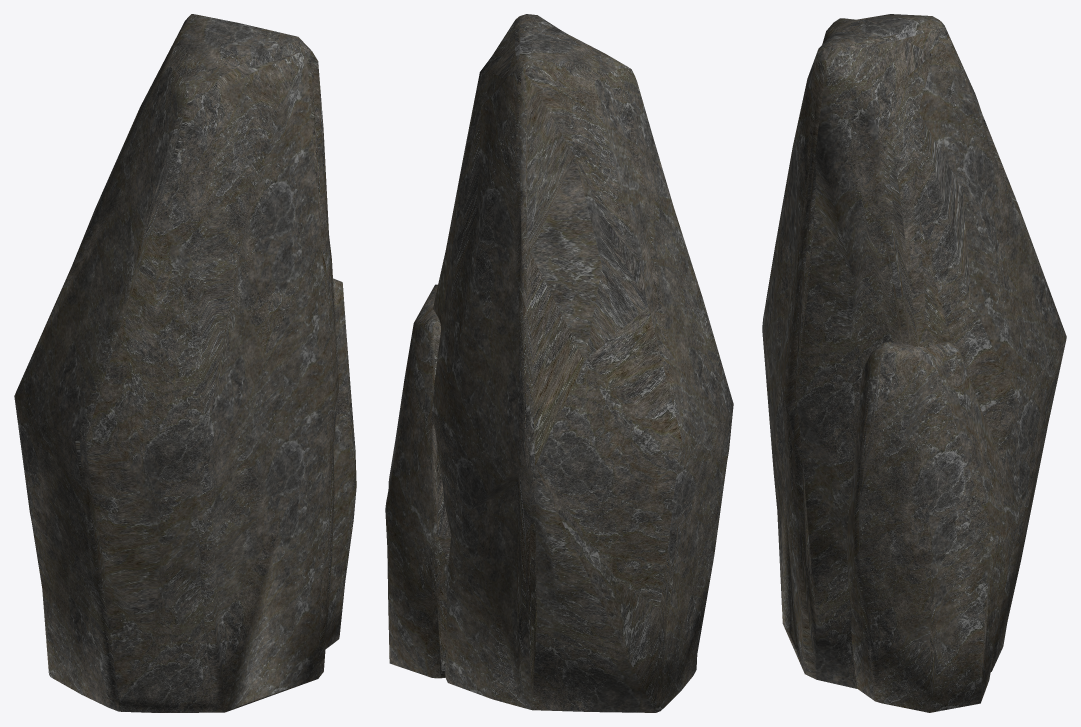
File: upright_crag_LOD1.fbx
3 renders of one model, left to right at view 1: azimuth 30°, elevation 25°; view 2: azimuth 150°, elevation 25°; view 3: azimuth 270°, elevation 25°, orthographic. The views are drawn at different scales.
Parts seen in each view (by area): view 1: upright_crag_LOD1; view 2: upright_crag_LOD1; view 3: upright_crag_LOD1.
Part boxes in pixels (x1,y1,x2,y2): upright_crag_LOD1: (14,14,356,712); upright_crag_LOD1: (385,14,733,712); upright_crag_LOD1: (762,14,1066,712).
Size of the model in its own units: 259 by 500 by 220.
